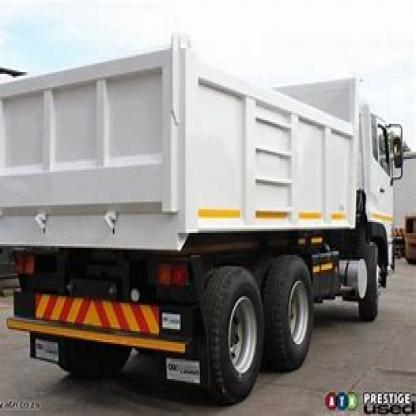dump_truck: (9, 18, 408, 405)
